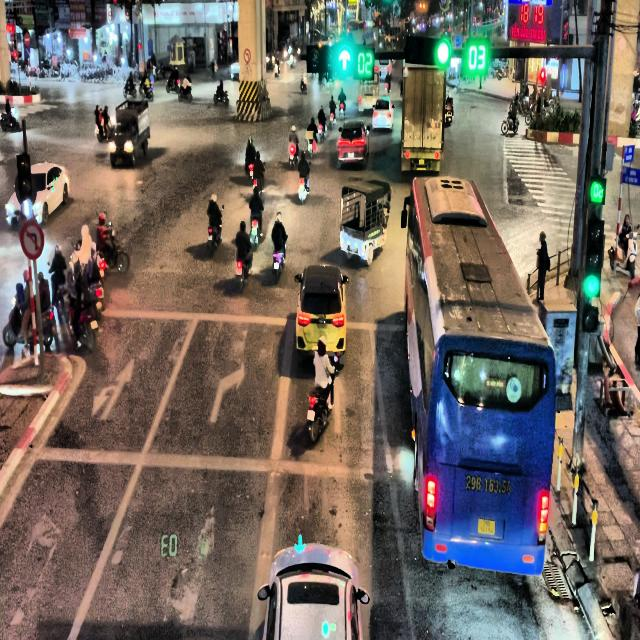lisence_plate: (463, 471, 513, 497), (476, 516, 496, 537)
